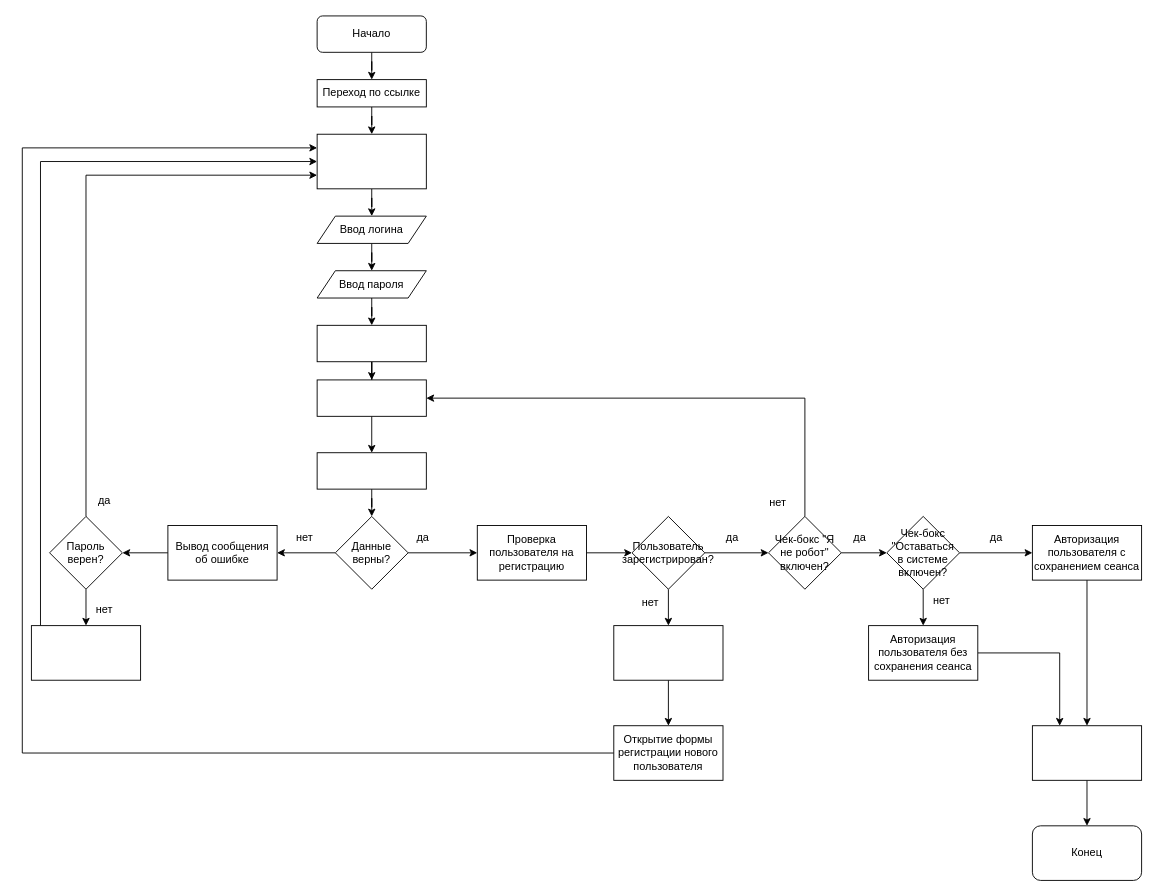
The diagram is 1158 pixels wide and 896 high, and some of its shapes have lost their labels. Each missing label, with the centre of its shape:
Войти: point 371,470
Открытие формы авторизации пользователя: point 371,161
Переход на форму восстановления пароля: point 85,652
Пользователь авторизован: point 1086,752
Сообщение об ошибке "Пользователь не найден": point 668,652
Чек-бокс "Я не робот": point 371,397
Чек-бокс оставаться в системе: point 371,343
